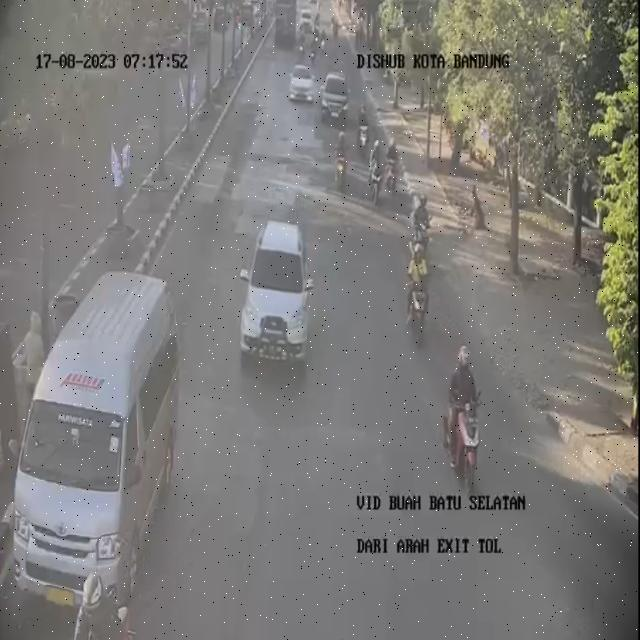cars: (8, 264, 186, 603), (242, 215, 307, 368), (324, 63, 354, 123), (286, 56, 314, 108)
motorcycle: (441, 339, 482, 481), (397, 236, 430, 349), (408, 189, 438, 278), (380, 137, 402, 201), (336, 126, 354, 190), (355, 100, 372, 150), (308, 29, 324, 70), (298, 23, 309, 56)
